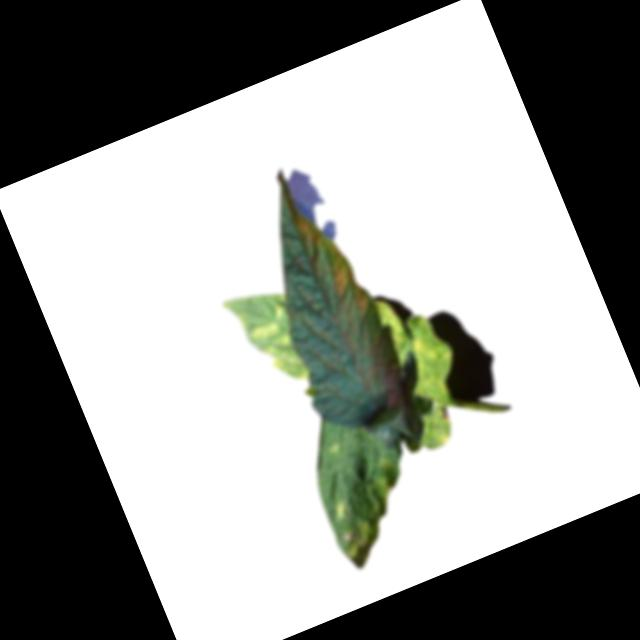Leaf_Mold: (313, 454, 427, 574), (372, 283, 468, 414), (239, 293, 315, 393), (317, 250, 372, 323), (289, 209, 323, 252)
